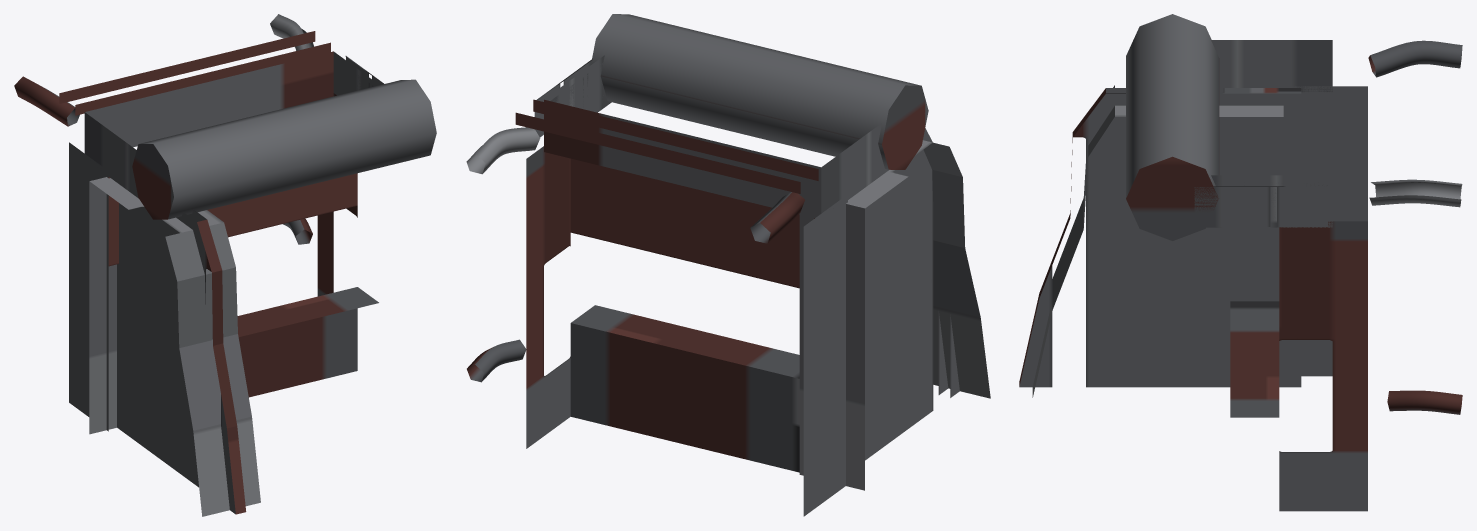
File: section-0.obj
3 renders of one model, left to right at view 1: azimuth 30°, elevation 25°; view 2: azimuth 150°, elevation 25°; view 3: azimuth 270°, elevation 25°, orthographic. The views are drawn at different scales.
Bounding box in the file's own units: 0.8086 × 0.895 × 0.998.
